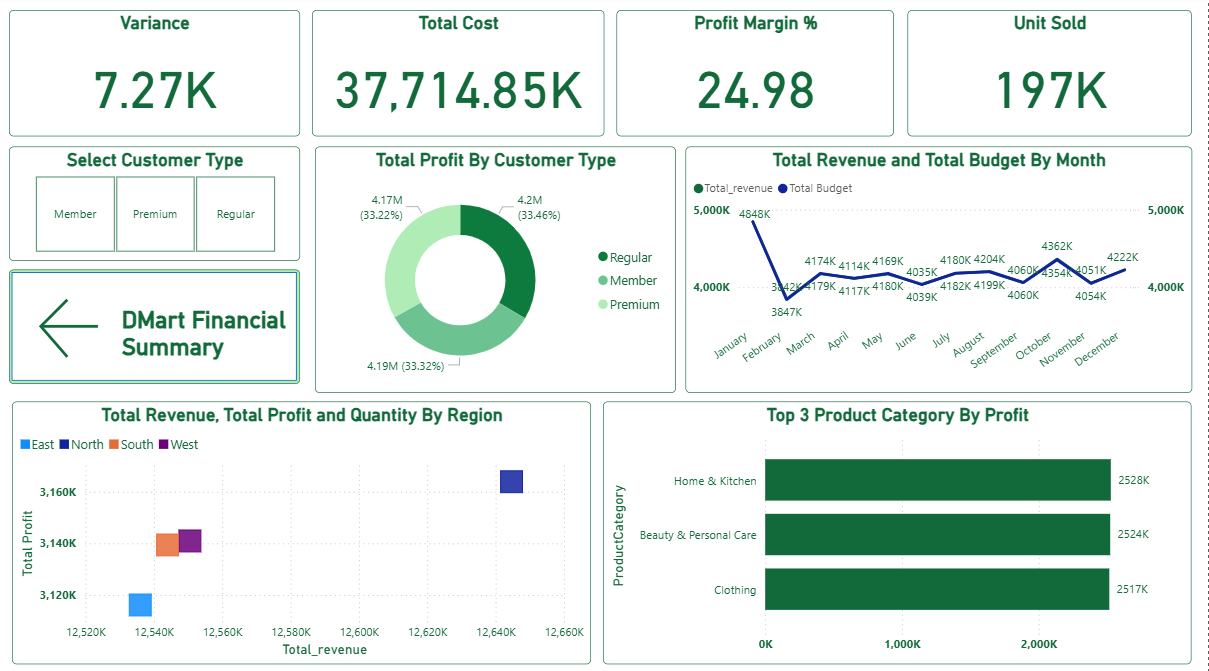

Layout of this report page (visuals, bound fields, positions):
{"tool":"powerbi","page":{"name":"Customer & Regional Performance","canvas":[1280,720],"ordinal":1},"visuals":[{"type":"barChart","title":"Top 3 Product Category By Profit","fields":{"Category":["DMart_Enhanced_Financial_Data.ProductCategory"],"Y":["DMart_Enhanced_Financial_Data.Total Profit"]},"box":[640,431.4,624.3,278.6],"z":0},{"type":"scatterChart","title":"Total Revenue, Total Profit and Quantity By Region","fields":{"Series":["DMart_Enhanced_Financial_Data.Region"],"X":["DMart_Enhanced_Financial_Data.Total_revenue"],"Y":["DMart_Enhanced_Financial_Data.Total Profit"],"Size":["Sum(DMart_Enhanced_Financial_Data.Quantity)"]},"box":[12.9,431.4,614.3,278.6],"z":1000},{"type":"donutChart","title":"Total Profit By Customer Type","fields":{"Y":["DMart_Enhanced_Financial_Data.Total Profit"],"Category":["DMart_Enhanced_Financial_Data.CustomerType"]},"box":[334.3,160,382.9,261.4],"z":2000},{"type":"card","title":"Variance","fields":{"Values":["DMart_Enhanced_Financial_Data.variance"]},"box":[10,15.7,308.6,134.3],"z":3000},{"type":"card","title":"Profit Margin %","fields":{"Values":["DMart_Enhanced_Financial_Data.Profit Margin %"]},"box":[654.3,15.7,294.3,134.3],"z":4000},{"type":"card","title":"Unit Sold","fields":{"Values":["DMart_Enhanced_Financial_Data.Unit Sold"]},"box":[962.9,15.7,301.4,134.3],"z":5000},{"type":"lineChart","title":"Total Revenue and Total Budget By Month","fields":{"Category":["DMart_Enhanced_Financial_Data.Purchase_Date.Variation.Date Hierarchy.Month"],"Y":["DMart_Enhanced_Financial_Data.Total_revenue"],"Y2":["DMart_Enhanced_Financial_Data.Total Budget"]},"box":[727.1,160,537.1,261.4],"z":6000},{"type":"shape","box":[10,291.4,308.6,121.4],"z":7000},{"type":"slicer","title":"Select Customer Type","fields":{"Values":["DMart_Enhanced_Financial_Data.CustomerType"]},"box":[10,160,308.6,121.4],"z":8000},{"type":"actionButton","box":[35.7,314.3,235.7,77.1],"z":9000},{"type":"textbox","title":"DMart Financial Summary","box":[124.3,328.6,188.6,60],"z":10000},{"type":"card","title":"Total Cost","fields":{"Values":["DMart_Enhanced_Financial_Data.Total_cost"]},"box":[331.4,15.7,310,134.3],"z":11000}]}

Visuals, with their boxes in screenshot pixels (x1, y1, x2, y2), scaled from the page's 1280x720 canvas onto the 1209x671 screenshot:
"Top 3 Product Category By Profit" barChart: detection(604, 402, 1194, 662)
"Total Revenue, Total Profit and Quantity By Region" scatterChart: detection(12, 402, 592, 662)
"Total Profit By Customer Type" donutChart: detection(316, 149, 677, 393)
"Variance" card: detection(9, 15, 301, 140)
"Profit Margin %" card: detection(618, 15, 896, 140)
"Unit Sold" card: detection(909, 15, 1194, 140)
"Total Revenue and Total Budget By Month" lineChart: detection(687, 149, 1194, 393)
shape: detection(9, 272, 301, 385)
"Select Customer Type" slicer: detection(9, 149, 301, 262)
actionButton: detection(34, 293, 256, 365)
"DMart Financial Summary" textbox: detection(117, 306, 296, 362)
"Total Cost" card: detection(313, 15, 606, 140)
